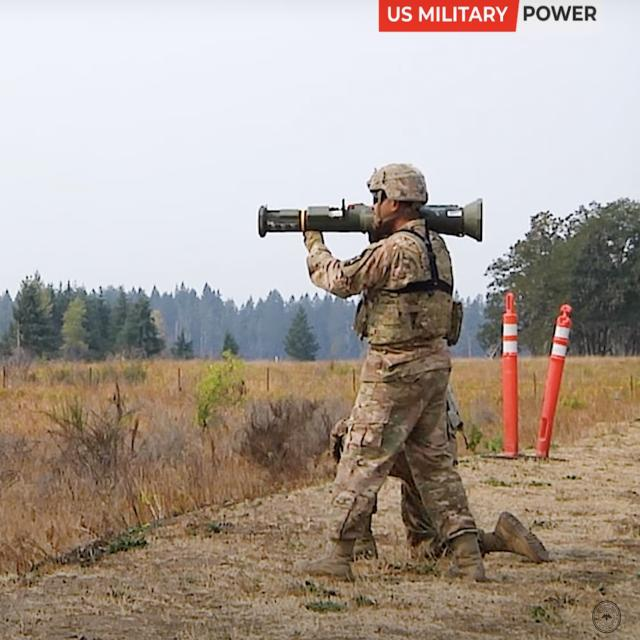bazooka: (253, 181, 491, 249)
